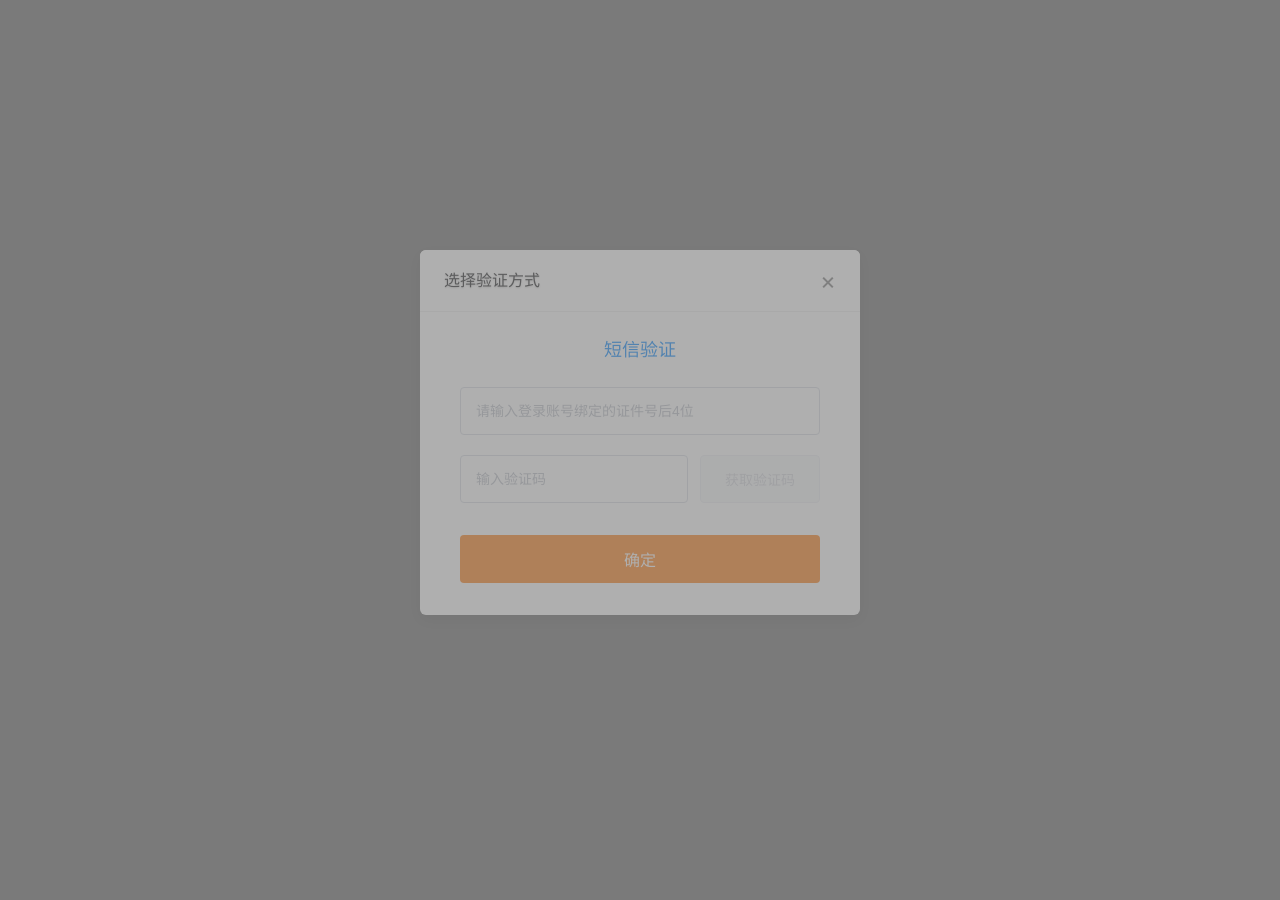
Test: SmsVerificationModal - 登录短信验证 › 应该在倒计时期间禁用发送按钮
This screenshot has width=1280, height=900.
Type "1234" into the field with placeholder "请输入登录账号绑定的证件号后4位" at (640, 413), box [460,389,820,437]
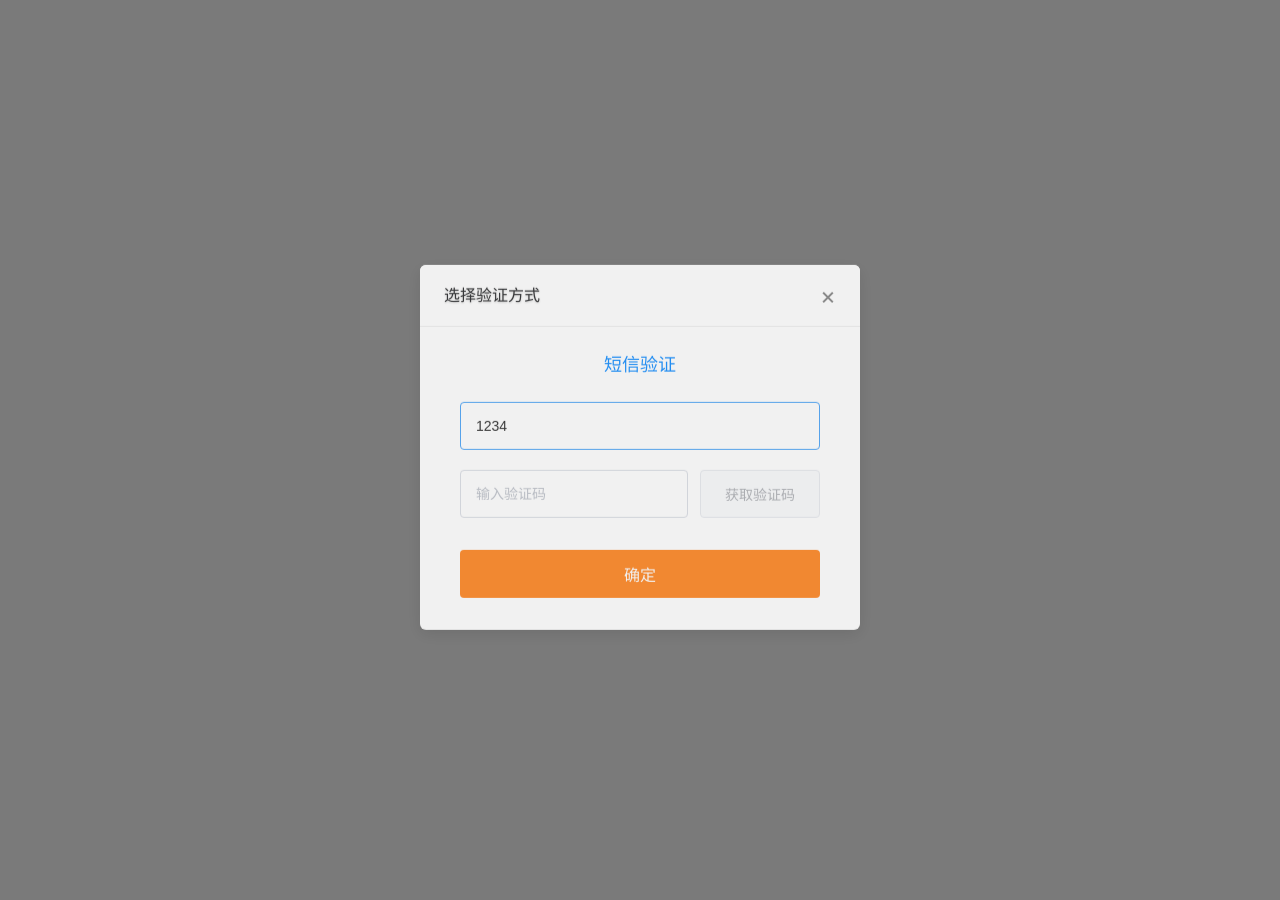
Click the button "获取验证码" at (760, 495), box [700,471,820,519]
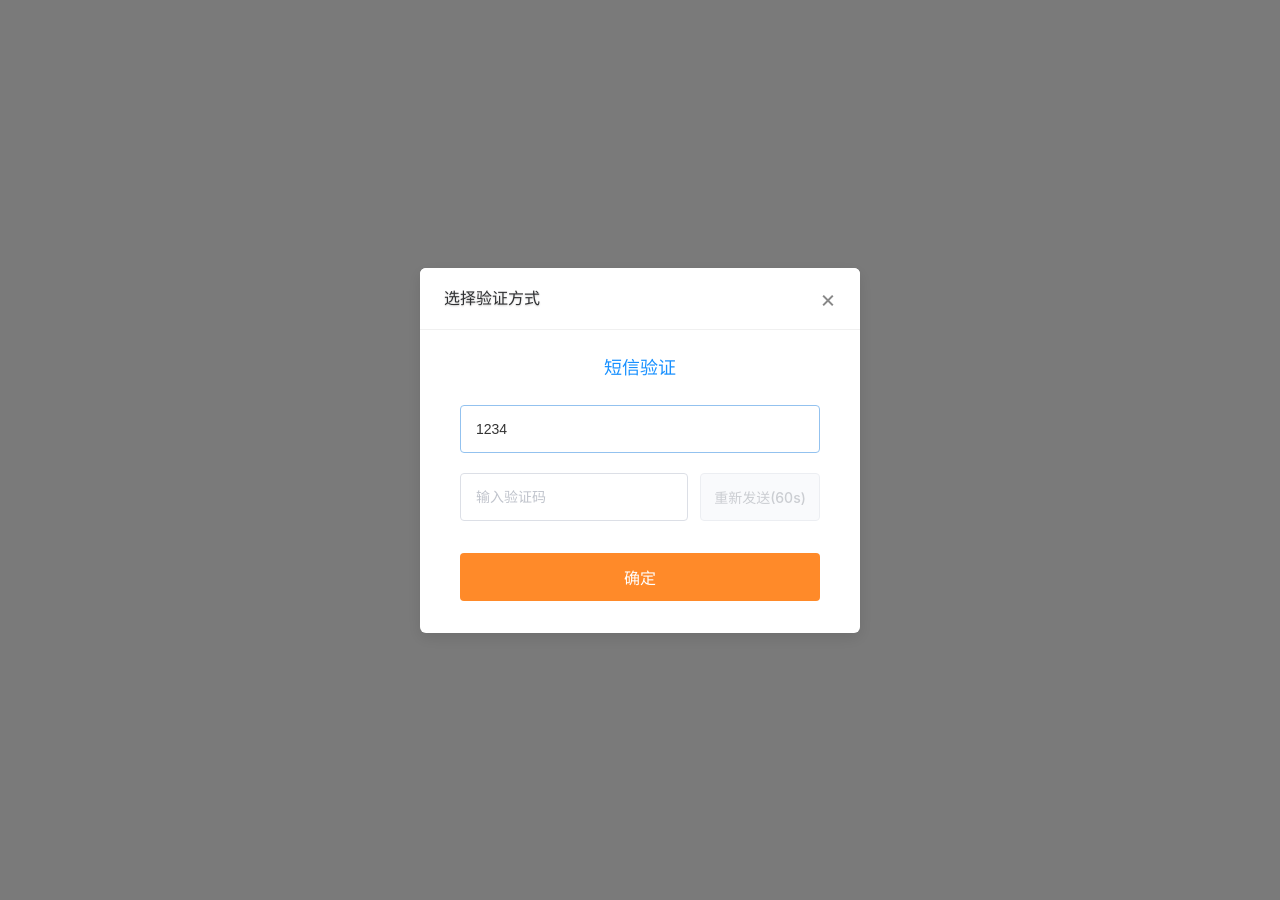
Expected: the button "重新发送(60s)" is disabled, [700,472,820,520]
